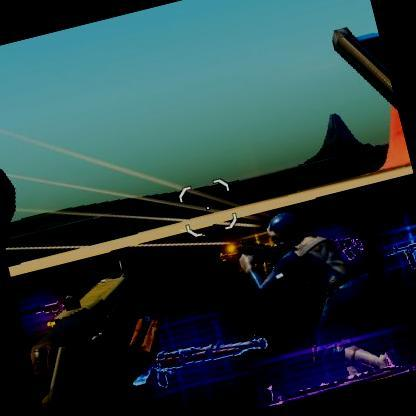person: (232, 194, 387, 362)
